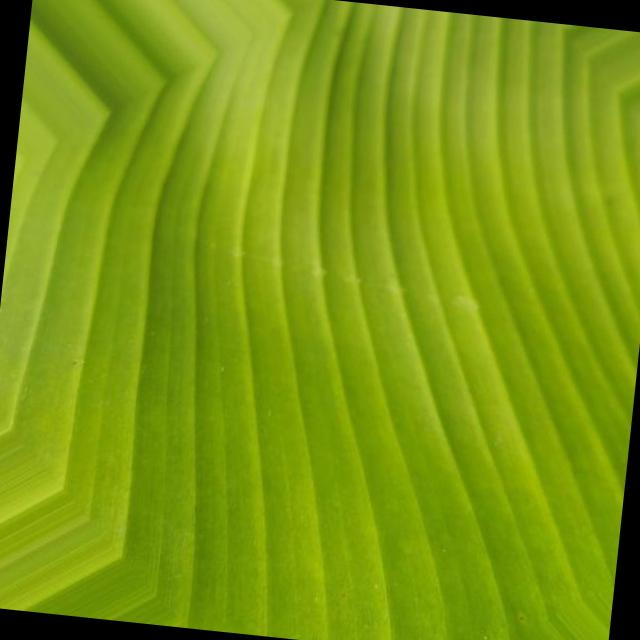Banana_Healthy: (14, 104, 640, 640), (24, 0, 386, 274)
